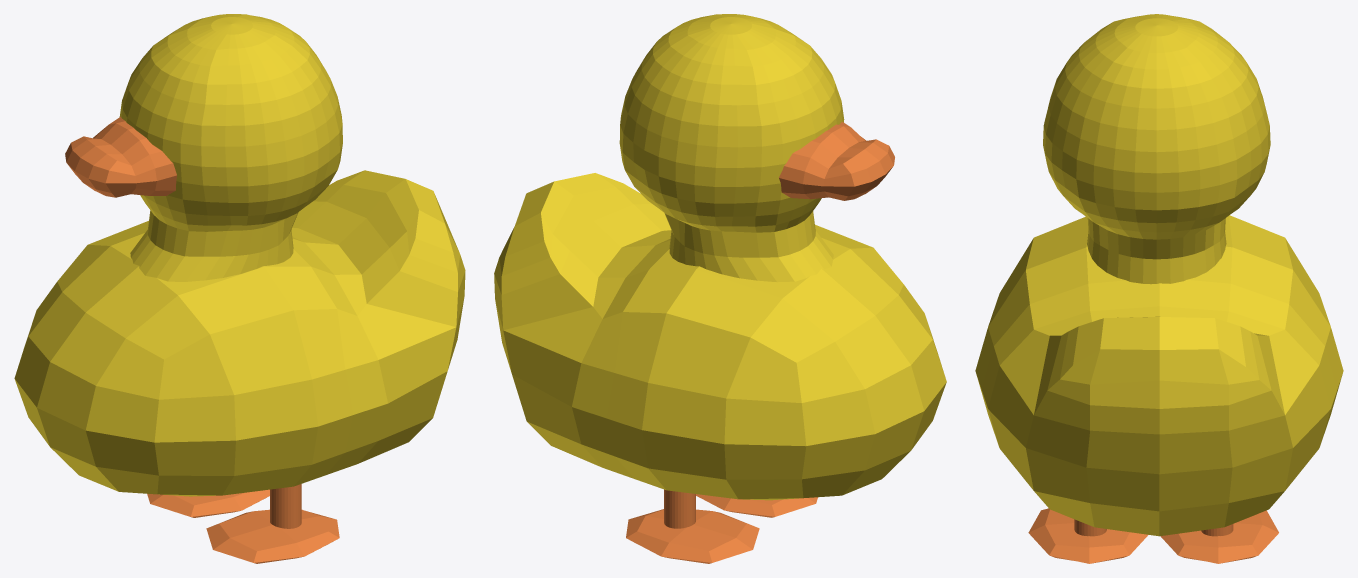
The model's file is Rubber Duck.fbx.
3 views of the same model, side by side, from view 1: azimuth 30°, elevation 25°; view 2: azimuth 150°, elevation 25°; view 3: azimuth 270°, elevation 25° (orthographic). The views are drawn at different scales.
Visible parts, largest first — view 1: Beak; view 2: Beak; view 3: Beak.
Part boxes in pixels (x1,y1,x2,y2): Beak: (14, 14, 465, 563); Beak: (494, 14, 946, 563); Beak: (975, 14, 1343, 563).
Size of the model in its own units: 89.95 by 106 by 68.68.
